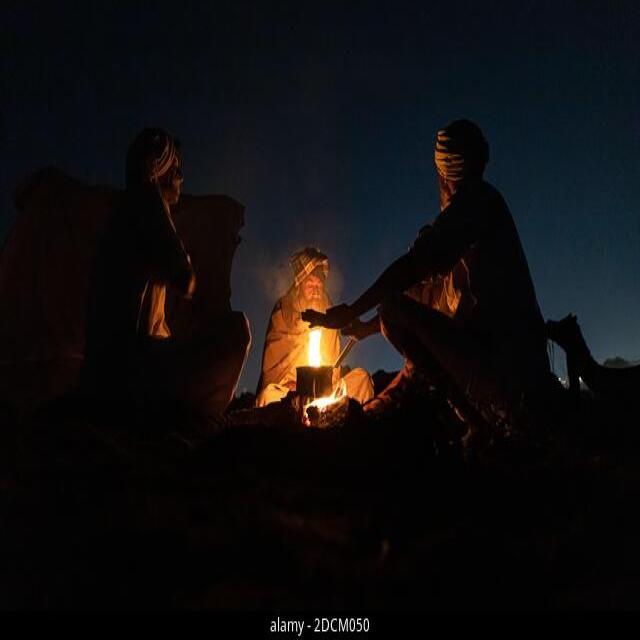fire: (303, 378, 347, 418)
